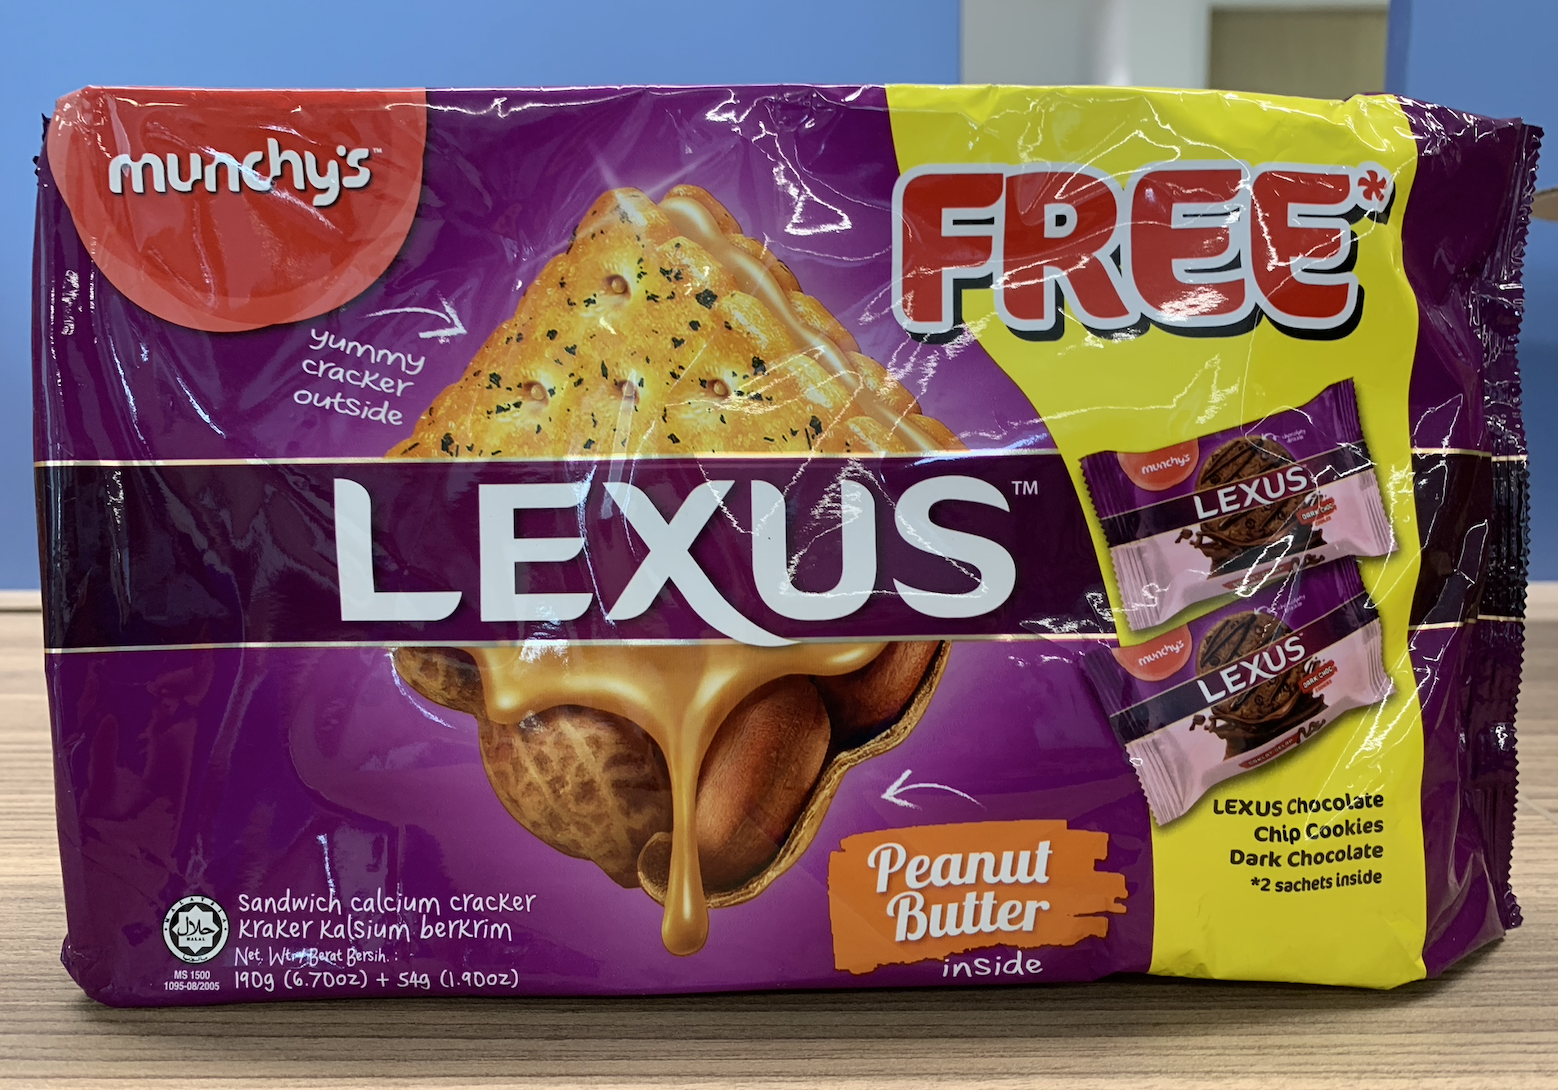cookies_100g-199g: (90, 125, 1434, 1001)
